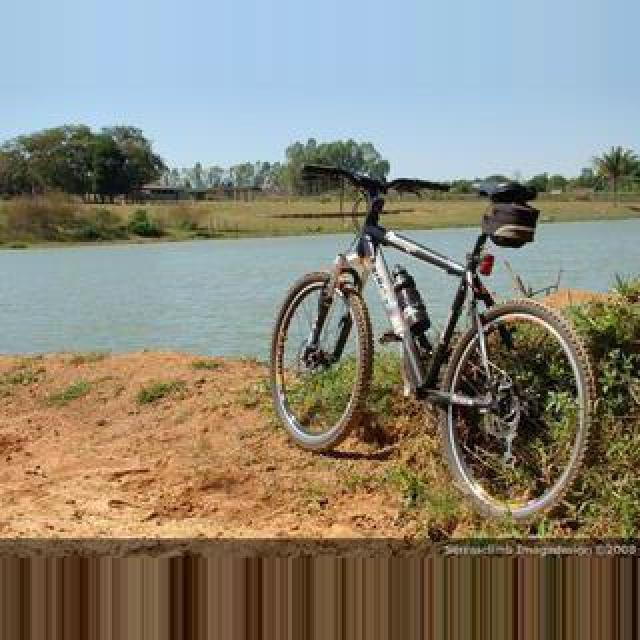Person: (271, 155, 587, 521)
